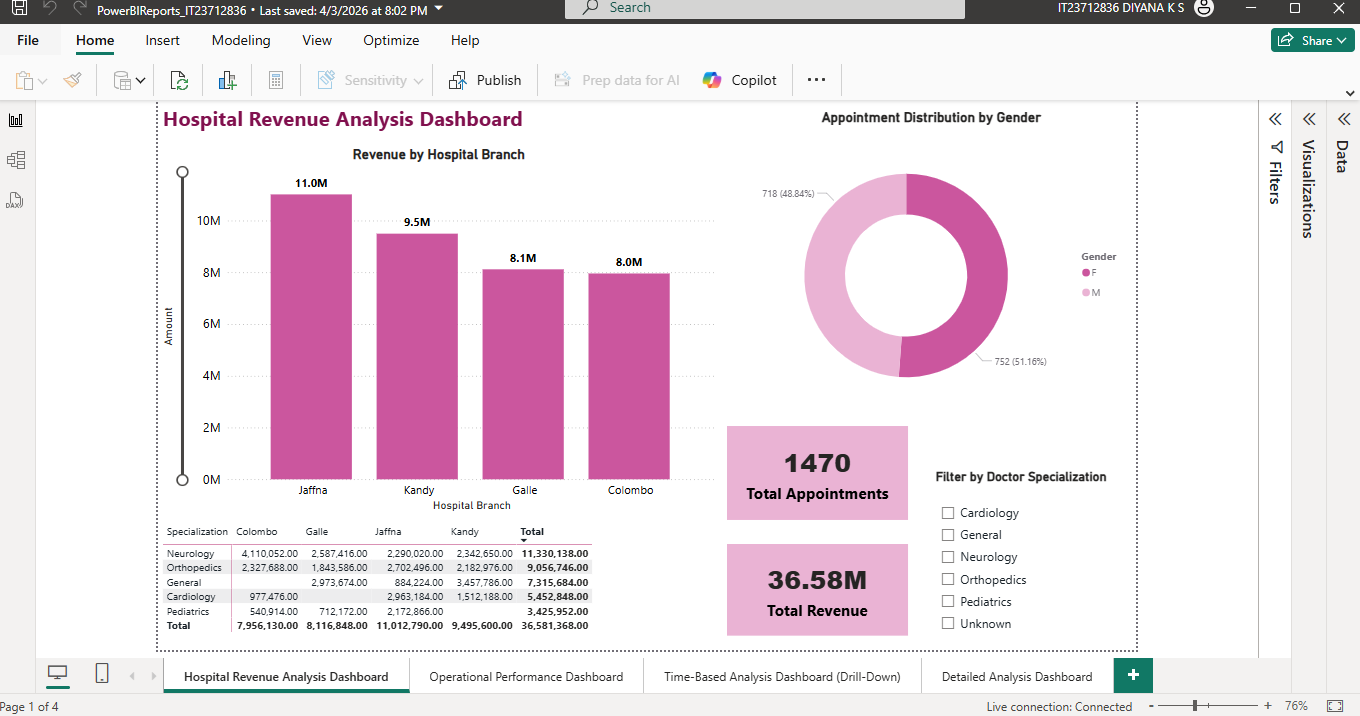

This screenshot's page, from the dashboard's own definition file:
{"tool":"powerbi","page":{"name":"Hospital Revenue Analysis Dashboard","canvas":[1280,720],"ordinal":0},"visuals":[{"type":"textbox","box":[1.7,0,498.3,60],"z":0},{"type":"pivotTable","fields":{"Rows":["Dim Doctor.Specialization"],"Columns":["Dim Doctor.Hospital Branch"],"Values":["Fact Billing.Amount"]},"box":[1.7,550,601.7,170],"z":1000},{"type":"card","fields":{"Values":["Fact Billing.Amount"]},"box":[745,581.7,236.7,120],"z":2000},{"type":"card","fields":{"Values":["Fact Billing.Fact Billing Count"]},"box":[745,426.7,236.7,123.3],"z":3000},{"type":"clusteredColumnChart","title":"Revenue by Hospital Branch","fields":{"Category":["Dim Doctor.Hospital Branch"],"Y":["Fact Billing.Amount"]},"box":[0,60,735,483.3],"z":4000},{"type":"slicer","title":"Filter by Doctor Specialization","fields":{"Values":["Dim Doctor.Specialization"]},"box":[1013.3,483.3,266.7,236.7],"z":5000},{"type":"donutChart","title":"Appointment Distribution by Gender","fields":{"Category":["Dim Patient.Gender"],"Y":["Fact Billing.Fact Billing Count"]},"box":[745,11.7,535,415],"z":6000}]}

Visuals, with their boxes on the page's 1280x720 design canvas (x1, y1, x2, y2). These are canvas units, not pixel positions in the 1360x716 screenshot, which may show the page scaled, cropped or inside an application window:
textbox: [left=2, top=0, right=500, bottom=60]
pivotTable - Dim Doctor.Specialization x Dim Doctor.Hospital Branch: [left=2, top=550, right=603, bottom=720]
card - Fact Billing.Amount: [left=745, top=582, right=982, bottom=702]
card - Fact Billing.Fact Billing Count: [left=745, top=427, right=982, bottom=550]
"Revenue by Hospital Branch" clusteredColumnChart: [left=0, top=60, right=735, bottom=543]
"Filter by Doctor Specialization" slicer: [left=1013, top=483, right=1280, bottom=720]
"Appointment Distribution by Gender" donutChart: [left=745, top=12, right=1280, bottom=427]
